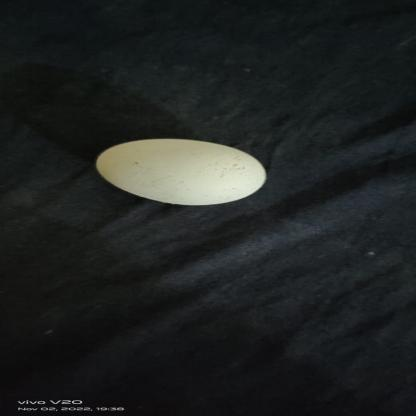egg: (94, 139, 270, 206)
